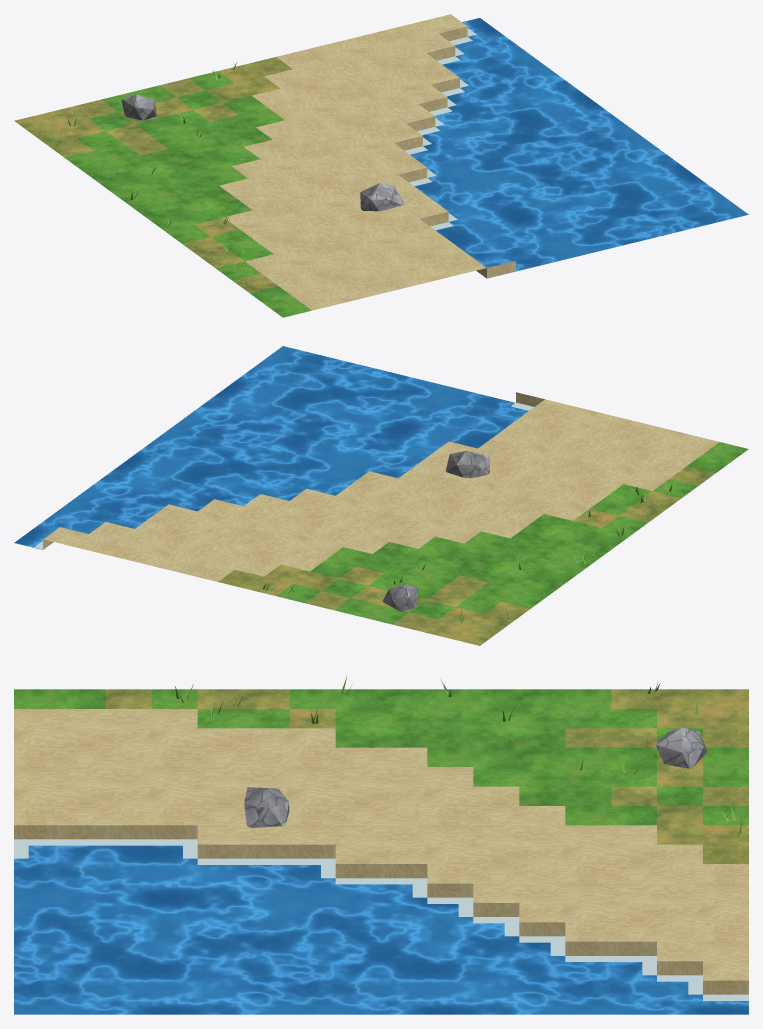
File: chunk_11_4.glb
3 renders of one model, top to bottom at view 1: azimuth 30°, elevation 25°; view 2: azimuth 150°, elevation 25°; view 3: azimuth 270°, elevation 25°, orthographic. The views are drawn at different scales.
Visible parts, largest first — view 1: chunk_11_4; view 2: chunk_11_4; view 3: chunk_11_4.
Part boxes in pixels (left/top/right/bottom): chunk_11_4: left=14, top=14, right=748, bottom=317; chunk_11_4: left=14, top=346, right=748, bottom=645; chunk_11_4: left=14, top=676, right=748, bottom=1014.
Bounding box in the file's own units: 16 × 1.1 × 16.
Materials: 7 (5 with a texture image).
